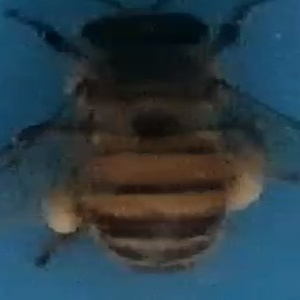bee: (17, 7, 293, 277)
